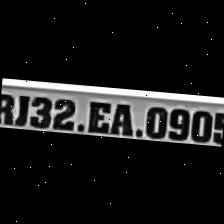0: (137, 101, 168, 138), (188, 106, 212, 142)
2: (50, 94, 80, 130)
3: (26, 91, 52, 128)
9: (165, 103, 190, 140)
A: (108, 99, 135, 136)
E: (82, 96, 112, 132)
J: (11, 88, 31, 128)
R: (0, 89, 15, 126)
